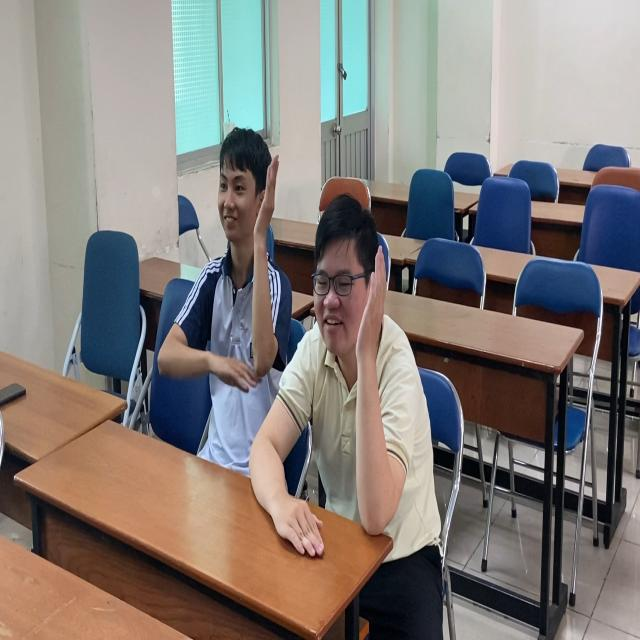raise_hand: (269, 182, 439, 550), (161, 123, 294, 489)
